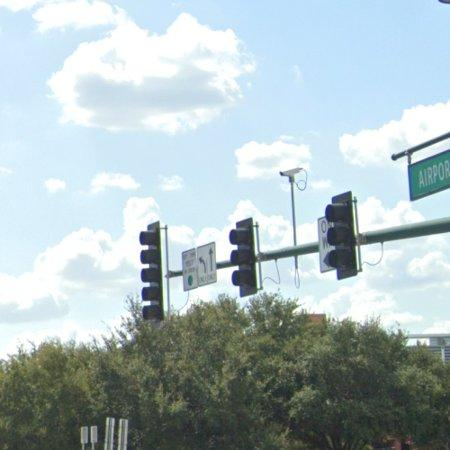traffic lights: (326, 192, 359, 279)
